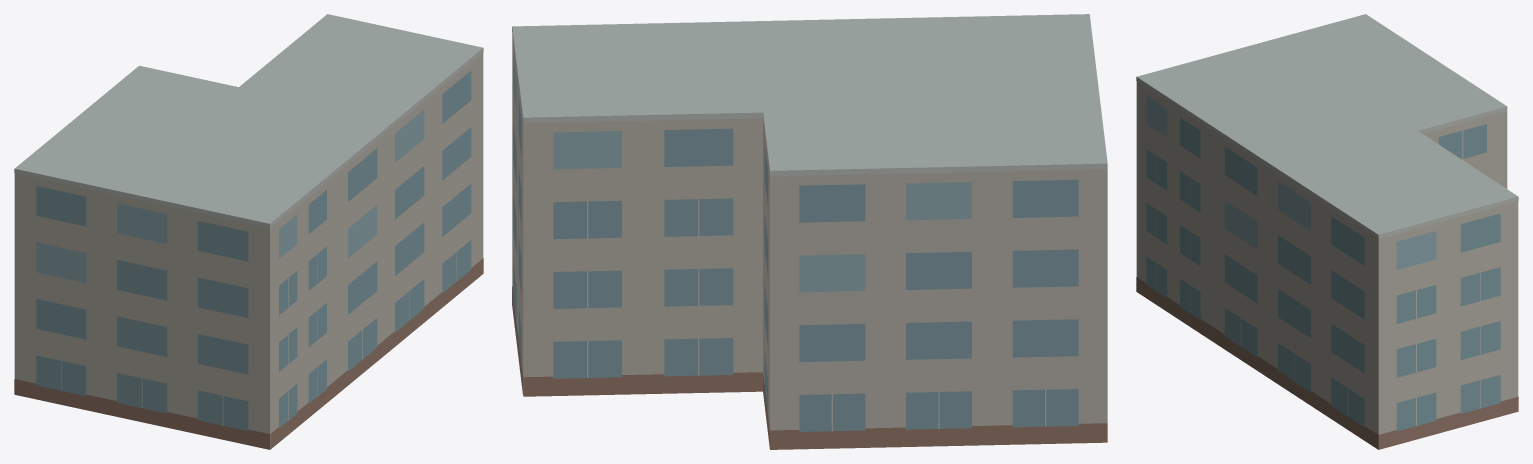
Rendered from residential-77bdc4f0-bb17-4aa6-a4fd-b7a24a3e7714.glb.
3 renders of one model, left to right at view 1: azimuth 30°, elevation 25°; view 2: azimuth 150°, elevation 25°; view 3: azimuth 270°, elevation 25°, orthographic. The views are drawn at different scales.
Parts seen in each view (by area): view 1: residential-77bdc4f0-bb17-4aa6-a4fd-b7a24a3e7714.tmp; view 2: residential-77bdc4f0-bb17-4aa6-a4fd-b7a24a3e7714.tmp; view 3: residential-77bdc4f0-bb17-4aa6-a4fd-b7a24a3e7714.tmp.
Boxes of the visible parts, bbox=[...] form: residential-77bdc4f0-bb17-4aa6-a4fd-b7a24a3e7714.tmp: bbox=[14, 14, 483, 449]; residential-77bdc4f0-bb17-4aa6-a4fd-b7a24a3e7714.tmp: bbox=[512, 14, 1107, 449]; residential-77bdc4f0-bb17-4aa6-a4fd-b7a24a3e7714.tmp: bbox=[1136, 14, 1518, 449].
Bounding box in the file's own units: 26.88 × 12.2 × 19.65.
